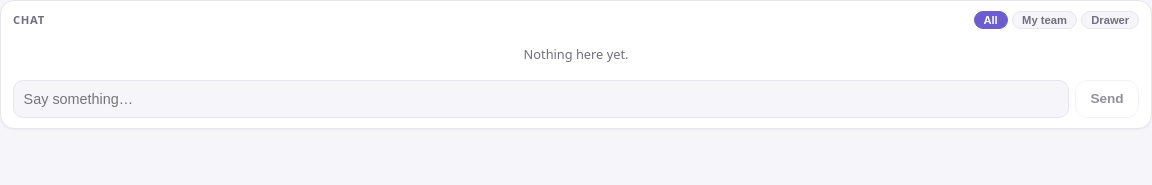
Test case: a failed send surfaces the server error instead of clearing the draft
This screenshot has width=1152, height=185.
Type "too fast" into the field with placeholder "Say something…" at x=541, y=99, box left=13, top=80, right=1069, bottom=118
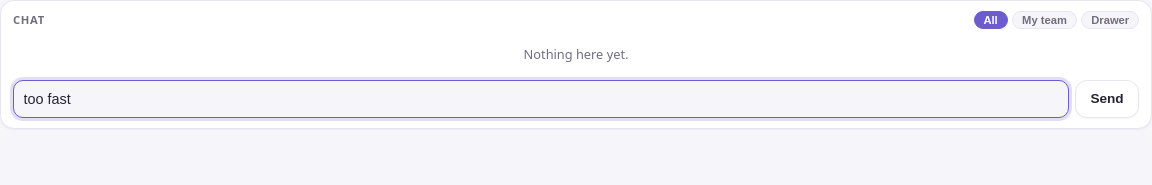
Click the button "Send" at x=1107, y=99, box left=1075, top=80, right=1139, bottom=118
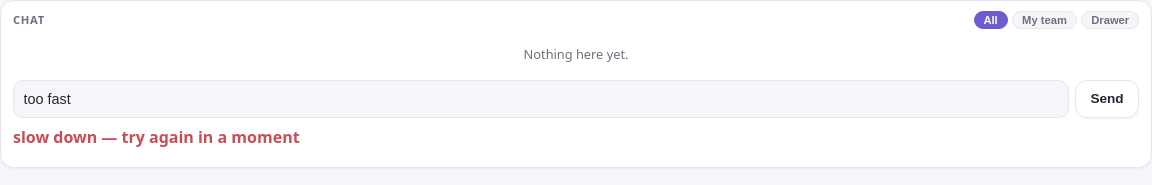
Now the text "slow down — try again in a moment" is shown, box left=13, top=126, right=300, bottom=148
